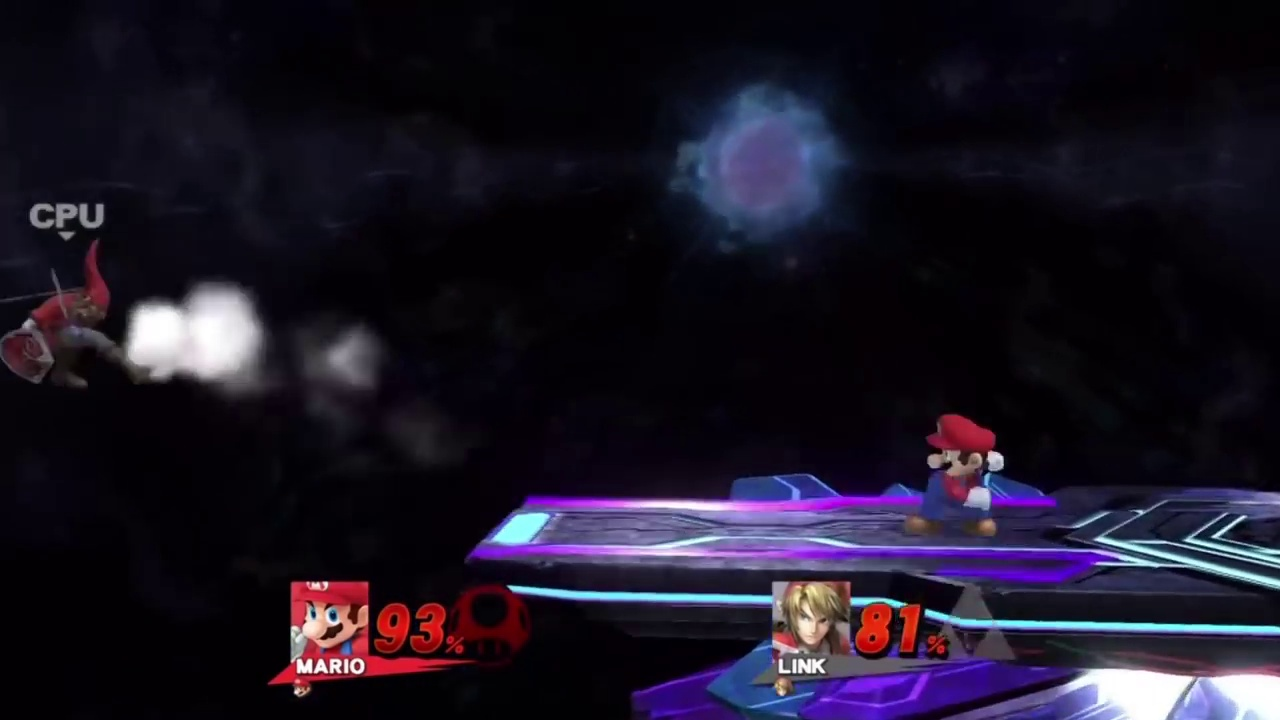Mario: (906, 414, 1002, 539)
